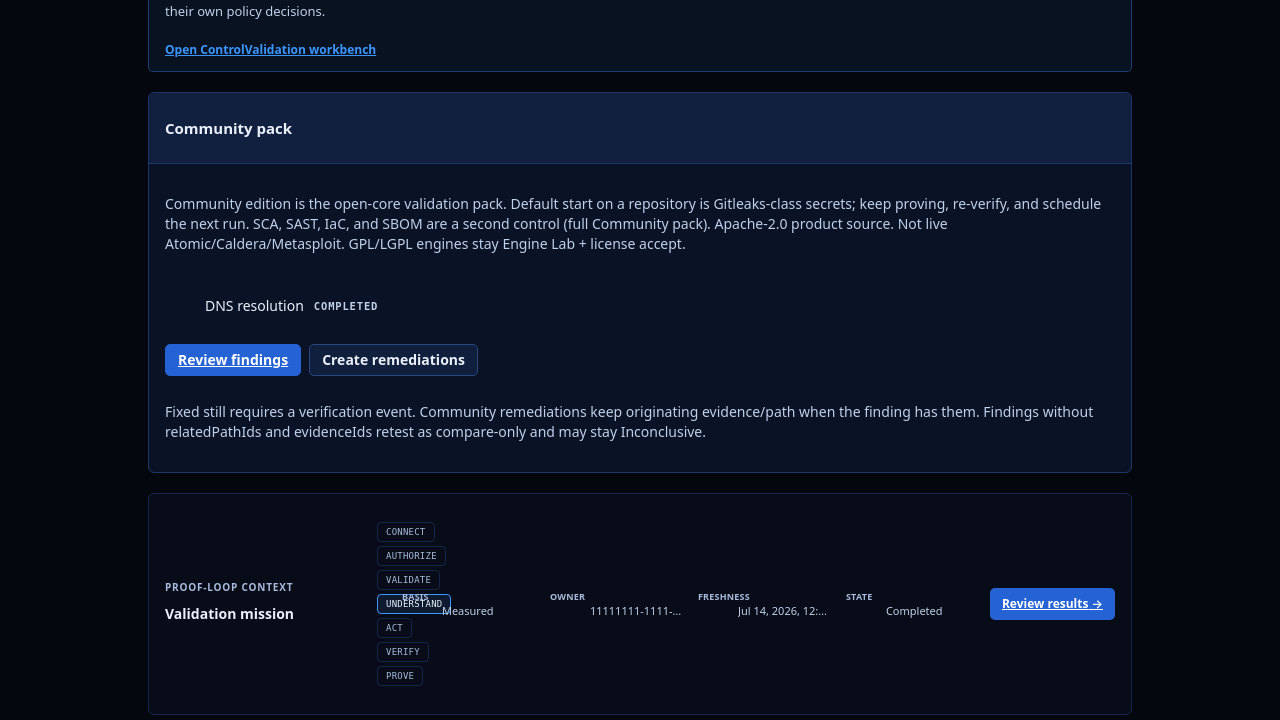
Test case: MissionDetail › keeps Community remediations honest: Fixed still requires verification and originating evidence/path is kept when the finding has them
(page scrolled)
expect the text with test id "community-remediations-honesty" shows "Fixed still requires a verification event": met, box [165, 402, 1093, 441]
expect the text with test id "community-remediations-honesty" shows "Community remediations keep originating evidence/path when the finding has them.": met, box [165, 402, 1093, 441]
Click the button with test id "community-create-remediations". click: (394, 360)
box: [309, 344, 478, 376]
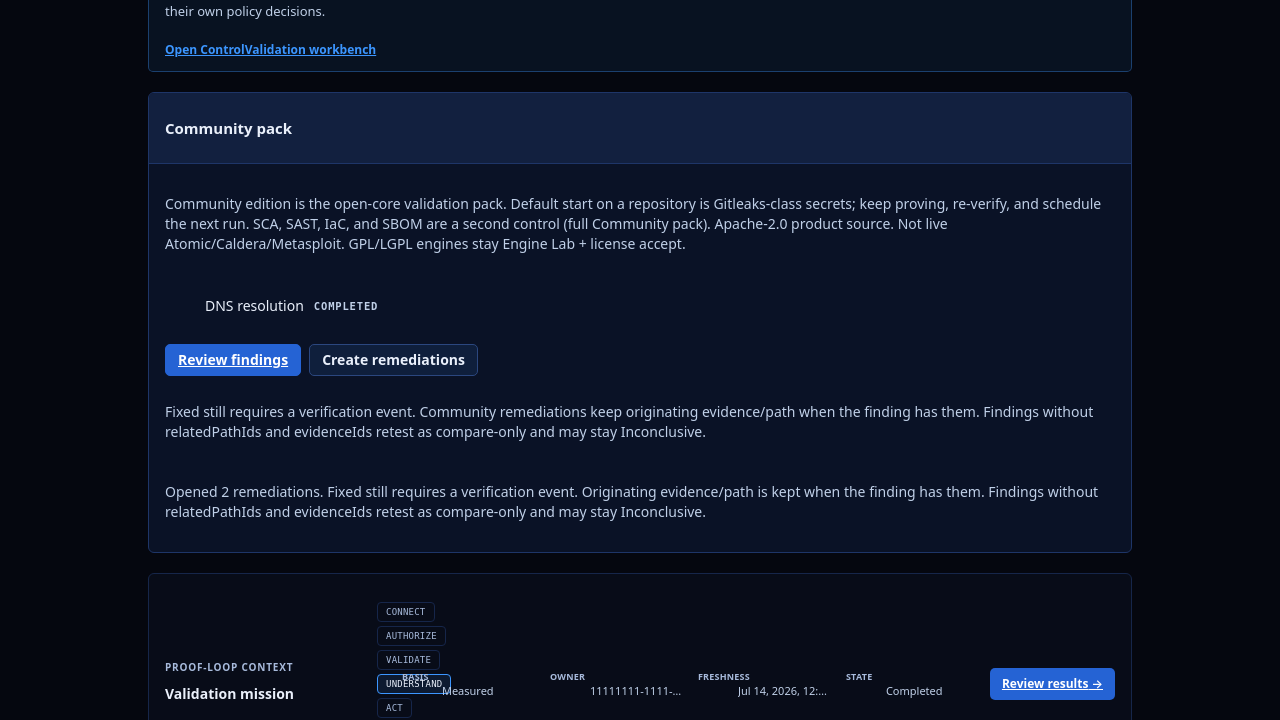
expect the 2nd message shows "Opened 2 remediations.": met, box [165, 482, 1098, 521]
expect the 2nd message shows "Fixed still requires a verification event": met, box [165, 482, 1098, 521]
expect the 2nd message shows "Originating evidence/path is kept when the finding has them.": met, box [165, 482, 1098, 521]
